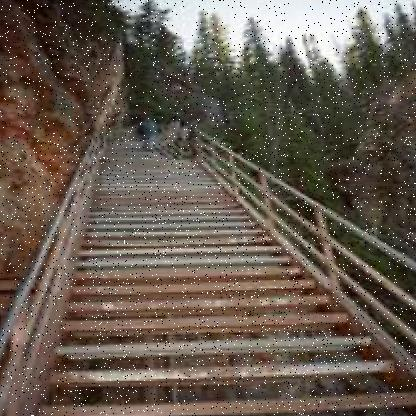stair_up: (80, 230, 354, 405)
